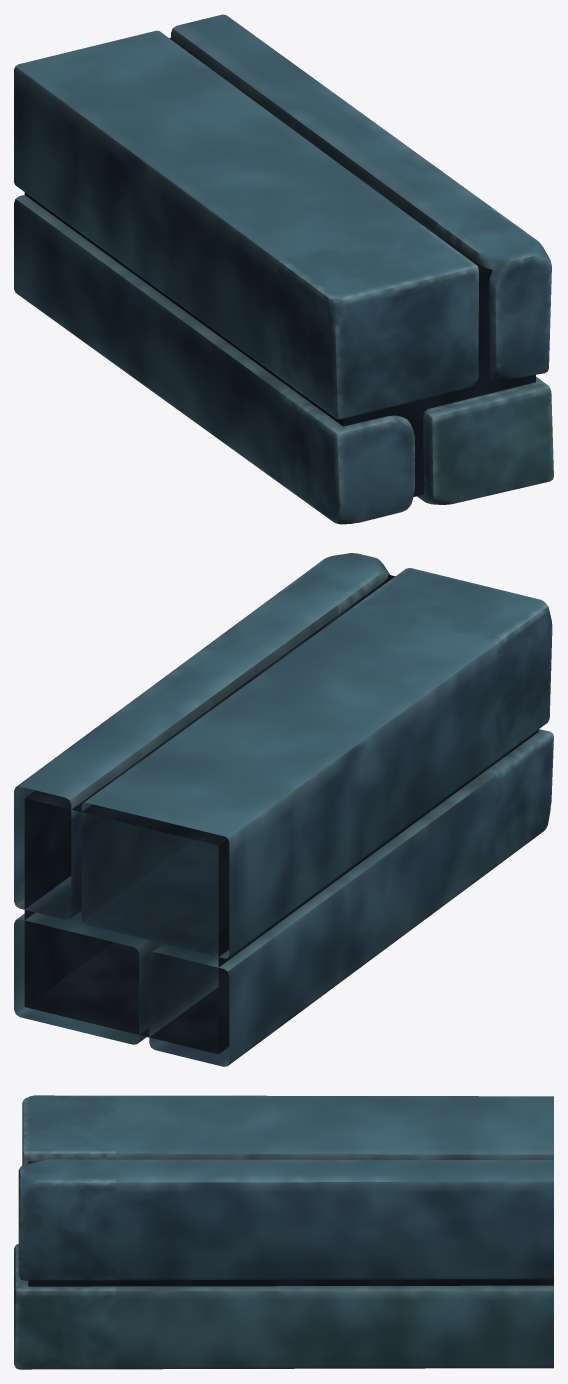
Rendered from ENV_Stone_A.fbx.
The picture shows the model from 3 angles, top to bottom: view 1: azimuth 30°, elevation 25°; view 2: azimuth 150°, elevation 25°; view 3: azimuth 270°, elevation 25°; orthographic projection. The views are drawn at different scales.
Parts seen in each view (by area): view 1: ENV_Stone_A; view 2: ENV_Stone_A; view 3: ENV_Stone_A.
Part boxes in pixels (x1=…): ENV_Stone_A: x1=14, y1=14, x2=553, y2=524; ENV_Stone_A: x1=14, y1=553, x2=553, y2=1066; ENV_Stone_A: x1=14, y1=1095, x2=553, y2=1369.
Size of the model in its own units: 0.9735 by 0.9813 by 2.53.
